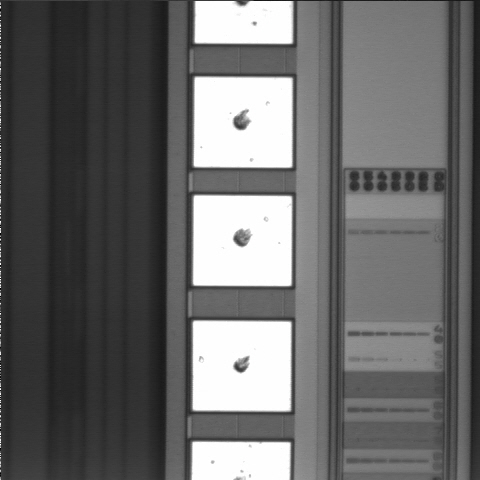pad: (193, 195, 292, 286), (194, 77, 292, 168), (193, 321, 291, 411)
